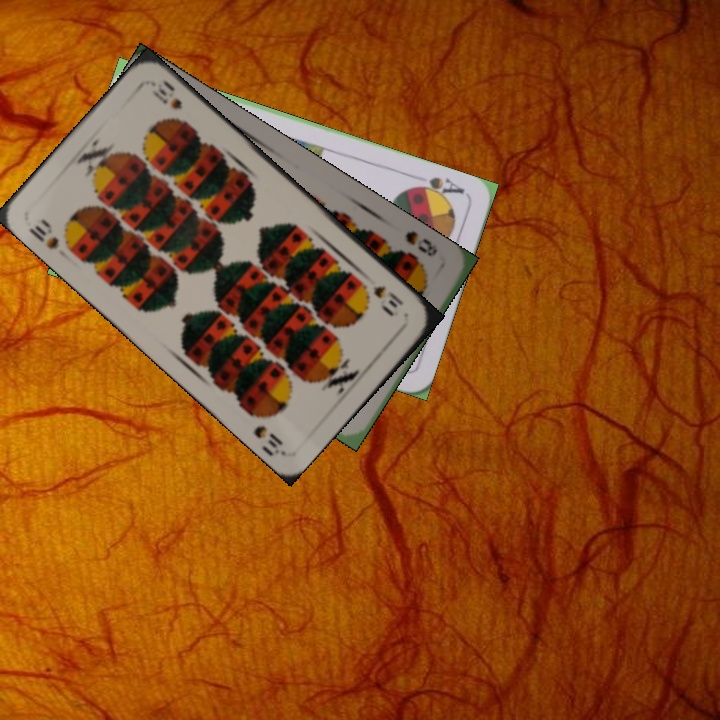S10: (24, 215, 62, 252), (369, 281, 406, 318)
S8: (401, 226, 440, 259)
SA: (408, 172, 468, 203)
